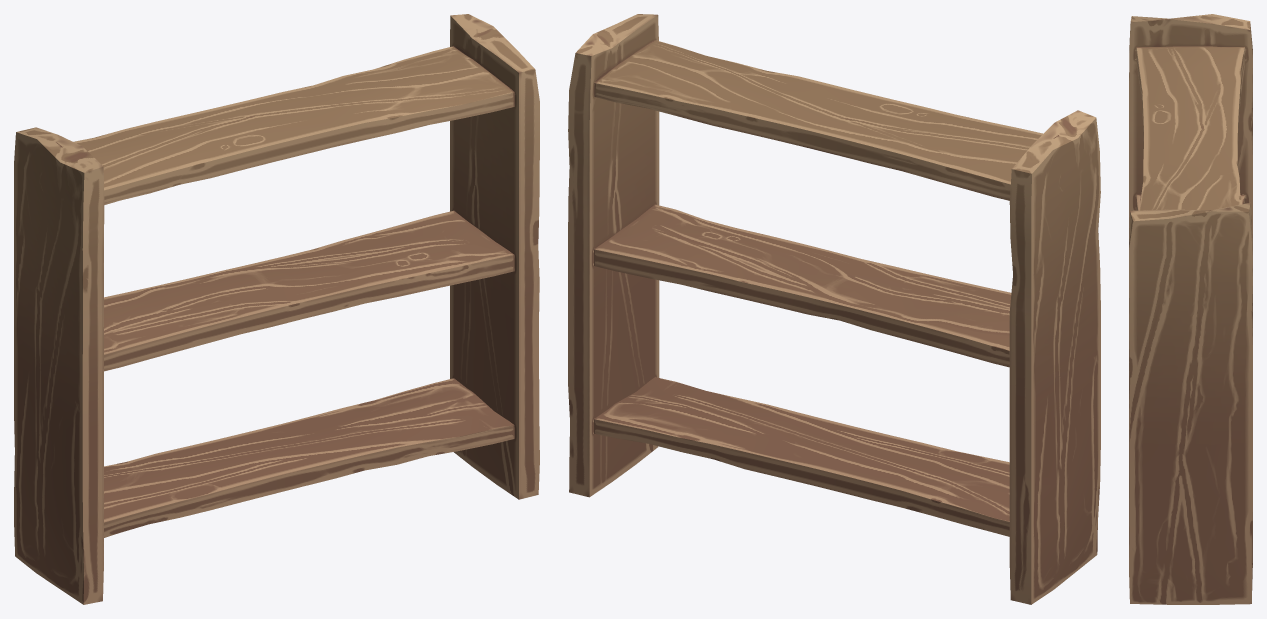
The model's file is shelf_wide.fbx.
3 views of the same model, side by side, from view 1: azimuth 30°, elevation 25°; view 2: azimuth 150°, elevation 25°; view 3: azimuth 270°, elevation 25° (orthographic). The views are drawn at different scales.
Parts seen in each view (by area): view 1: shelf_wide; view 2: shelf_wide; view 3: shelf_wide.
Boxes of the visible parts, x1,y1,x2,y2 form: shelf_wide: [14, 14, 539, 604]; shelf_wide: [568, 14, 1100, 604]; shelf_wide: [1129, 14, 1252, 604].
Bounding box in the file's own units: 209 × 190 × 53.93.
1 material, 1 textured.
